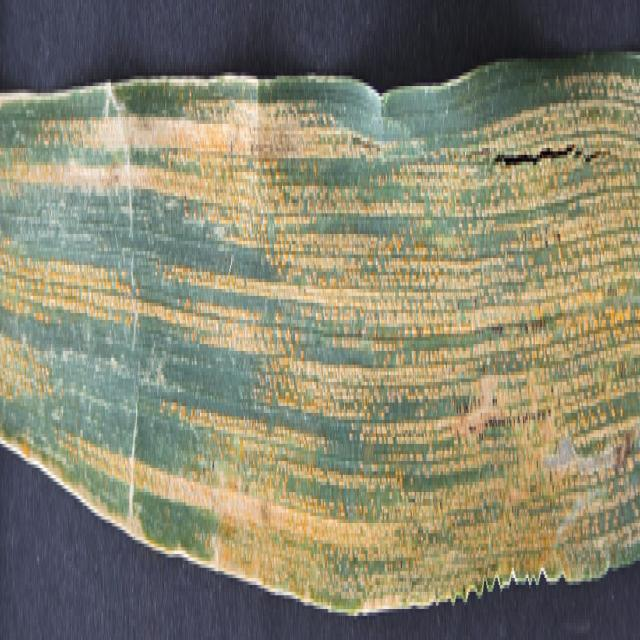leaf rust: (0, 75, 640, 612)
